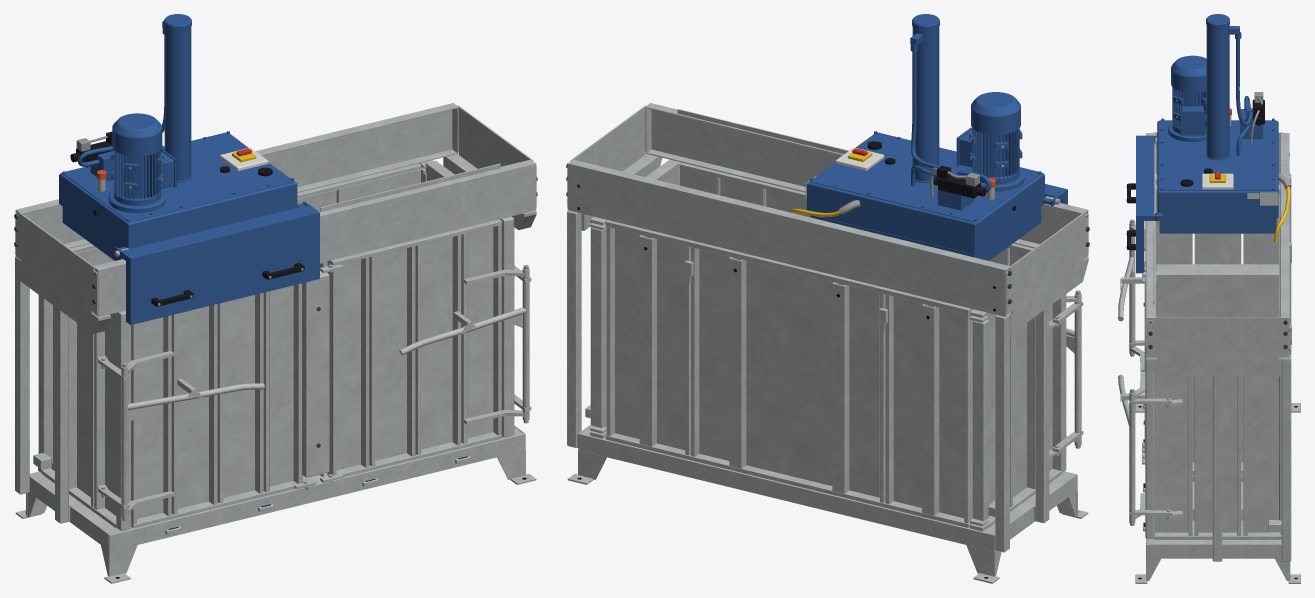
The model's file is modelo.glb.
The picture shows the model from 3 angles, left to right: view 1: azimuth 30°, elevation 25°; view 2: azimuth 150°, elevation 25°; view 3: azimuth 270°, elevation 25°; orthographic projection. The views are drawn at different scales.
Visible parts, largest first — view 1: Austropressen_K70; view 2: Austropressen_K70; view 3: Austropressen_K70.
Boxes of the visible parts, left/top/right/bottom form: Austropressen_K70: left=14, top=14, right=537, bottom=583; Austropressen_K70: left=566, top=14, right=1089, bottom=583; Austropressen_K70: left=1118, top=14, right=1300, bottom=583.
Size of the model in its own units: 1.82 by 1.97 by 0.7503.
14 materials, 3 textured.
